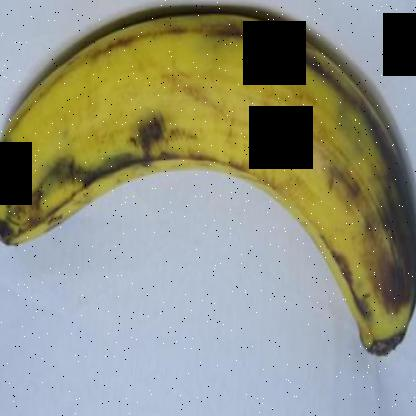ripe: (0, 1, 415, 369)
